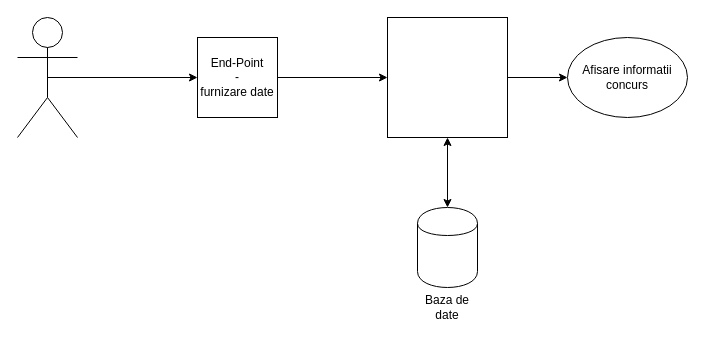
Some shapes in this 705 by 339 pixel diagram are drawn without their labels. The shapes that lost their labels are listed below. From the top down, each one's centre as x and y in pixels, then its label:
(47,77): Jurat
(447,77): Server
